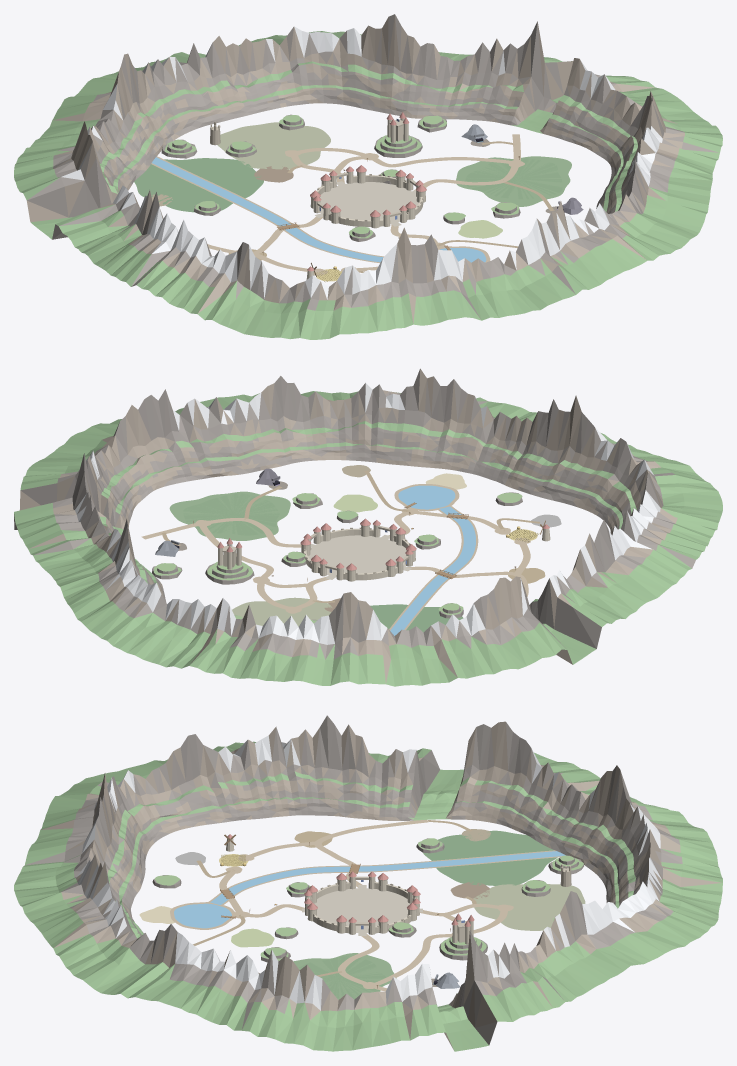
File: map_city_aldara.glb
3 renders of one model, top to bottom at view 1: azimuth 30°, elevation 25°; view 2: azimuth 150°, elevation 25°; view 3: azimuth 270°, elevation 25°, orthographic.
Parts seen in each view (by area): view 1: Z_city_aldara_penhascos, Z_city_aldara_chao_mata_noroeste, Z_city_aldara_chao_colinas, Z_city_aldara_chao_mata_leste_borda, Z_city_aldara_chao_mata_leste, Z_city_aldara_agua_rio, Z_city_aldara_chao_vila, Z_city_aldara_margem_rio, Z_city_aldara_estrada_E, Z_city_aldara_chao_flores, Z_city_aldara_estrada_castelo_bosque; view 2: Z_city_aldara_penhascos, Z_city_aldara_chao_mata_leste_borda, Z_city_aldara_chao_mata_leste, Z_city_aldara_agua_rio, Z_city_aldara_chao_vila, Z_city_aldara_chao_colinas, Z_city_aldara_chao_mata_noroeste, Z_city_aldara_agua_lago, Z_city_aldara_estrada_E, Z_city_aldara_margem_rio, Z_city_aldara_chao_flores, Z_city_aldara_rua_anel; view 3: Z_city_aldara_penhascos, Z_city_aldara_chao_mata_noroeste, Z_city_aldara_chao_colinas, Z_city_aldara_agua_rio, Z_city_aldara_chao_vila, Z_city_aldara_chao_mata_leste_borda, Z_city_aldara_chao_mata_leste, Z_city_aldara_agua_lago, Z_city_aldara_margem_rio, Z_city_aldara_estrada_W, Z_city_aldara_chao_flores, Z_city_aldara_estrada_E (+1 smaller).
Boxes of the visible parts, <box> form: Z_city_aldara_penhascos: <box>14,14,722,339</box>; Z_city_aldara_chao_mata_noroeste: <box>134,158,263,212</box>; Z_city_aldara_chao_colinas: <box>217,122,330,169</box>; Z_city_aldara_chao_mata_leste_borda: <box>456,156,571,206</box>; Z_city_aldara_chao_mata_leste: <box>465,158,562,199</box>; Z_city_aldara_agua_rio: <box>152,157,382,262</box>; Z_city_aldara_chao_vila: <box>320,182,418,222</box>; Z_city_aldara_margem_rio: <box>151,156,383,263</box>; Z_city_aldara_estrada_E: <box>413,134,520,190</box>; Z_city_aldara_chao_flores: <box>458,220,502,238</box>; Z_city_aldara_estrada_castelo_bosque: <box>368,156,516,167</box>; Z_city_aldara_penhascos: <box>14,368,722,686</box>; Z_city_aldara_chao_mata_leste_borda: <box>169,491,290,540</box>; Z_city_aldara_chao_mata_leste: <box>183,493,279,535</box>; Z_city_aldara_agua_rio: <box>390,506,475,635</box>; Z_city_aldara_chao_vila: <box>308,535,406,575</box>; Z_city_aldara_chao_colinas: <box>232,597,332,626</box>; Z_city_aldara_chao_mata_noroeste: <box>370,604,463,632</box>; Z_city_aldara_agua_lago: <box>398,485,455,509</box>; Z_city_aldara_estrada_E: <box>141,518,301,547</box>; Z_city_aldara_margem_rio: <box>389,506,478,630</box>; Z_city_aldara_chao_flores: <box>333,494,377,512</box>; Z_city_aldara_rua_anel: <box>321,541,395,572</box>; Z_city_aldara_penhascos: <box>14,715,722,1051</box>; Z_city_aldara_chao_mata_noroeste: <box>423,830,557,885</box>; Z_city_aldara_chao_colinas: <box>472,884,585,930</box>; Z_city_aldara_agua_rio: <box>210,851,565,904</box>; Z_city_aldara_chao_vila: <box>314,888,410,932</box>; Z_city_aldara_chao_mata_leste_borda: <box>293,953,396,999</box>; Z_city_aldara_chao_mata_leste: <box>299,956,385,999</box>; Z_city_aldara_agua_lago: <box>174,903,231,928</box>; Z_city_aldara_margem_rio: <box>208,850,561,904</box>; Z_city_aldara_estrada_W: <box>314,819,428,887</box>; Z_city_aldara_chao_flores: <box>231,928,274,947</box>; Z_city_aldara_estrada_E: <box>338,934,386,991</box>.
Bounding box in the file's own units: 395 × 57.29 × 394.
